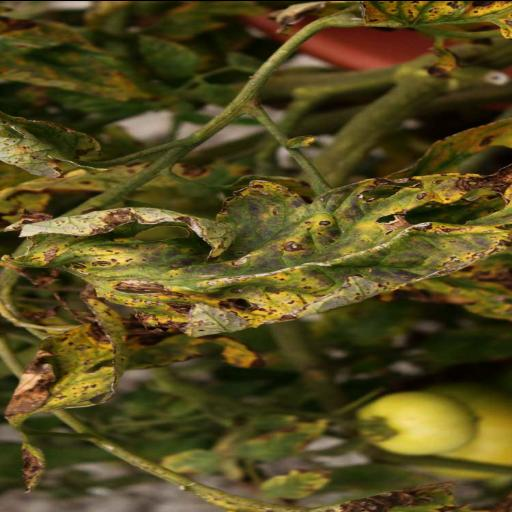disease_tomato: (16, 168, 512, 338), (0, 321, 128, 430)
